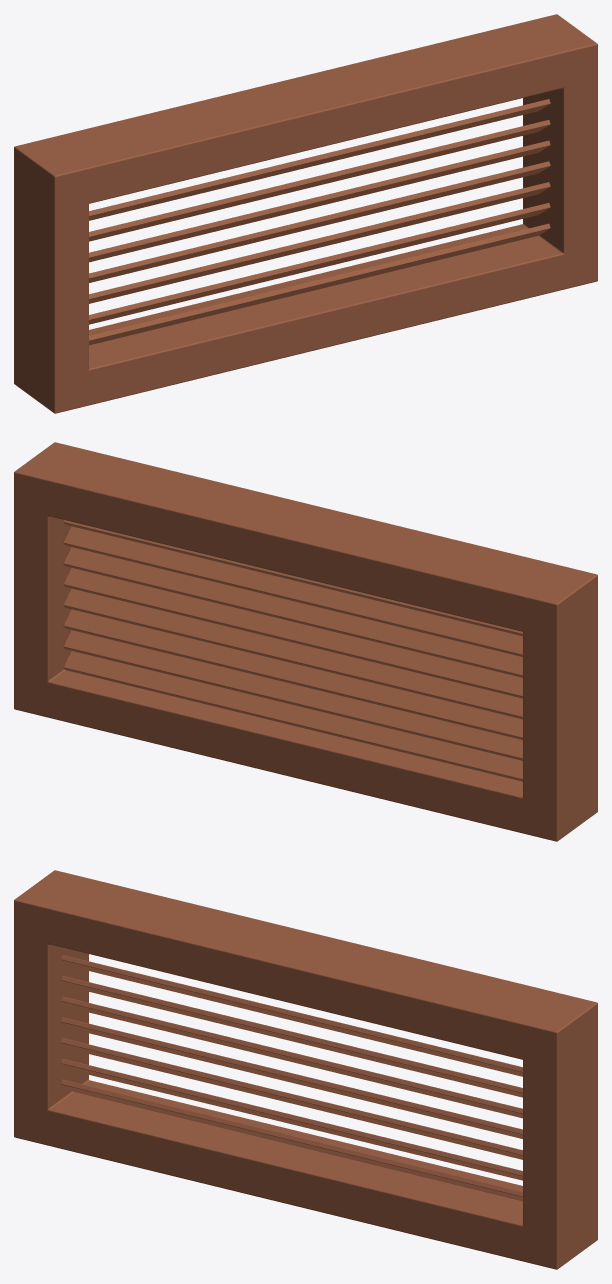
File: Ventilasi.fbx
3 renders of one model, top to bottom at view 1: azimuth 30°, elevation 25°; view 2: azimuth 150°, elevation 25°; view 3: azimuth 330°, elevation 25°, orthographic.
Visible parts, largest first — view 1: kerangka ventilasi, jerjak; view 2: kerangka ventilasi, jerjak; view 3: kerangka ventilasi, jerjak.
Part boxes in pixels (bbox=[...]): kerangka ventilasi: bbox=[14, 14, 597, 413]; jerjak: bbox=[89, 99, 550, 345]; kerangka ventilasi: bbox=[14, 442, 597, 841]; jerjak: bbox=[63, 520, 522, 781]; kerangka ventilasi: bbox=[14, 870, 597, 1269]; jerjak: bbox=[61, 955, 522, 1201].
Size of the model in its own units: 93.96 by 39.3 by 12.3.
